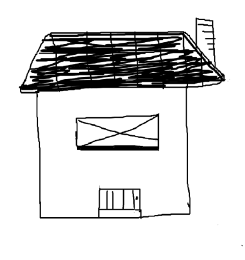chimney: (189, 7, 220, 75)
closed_window: (71, 108, 163, 156)
door: (93, 180, 148, 225)
shaded_roof: (15, 28, 227, 94)
wall: (32, 82, 193, 218)
